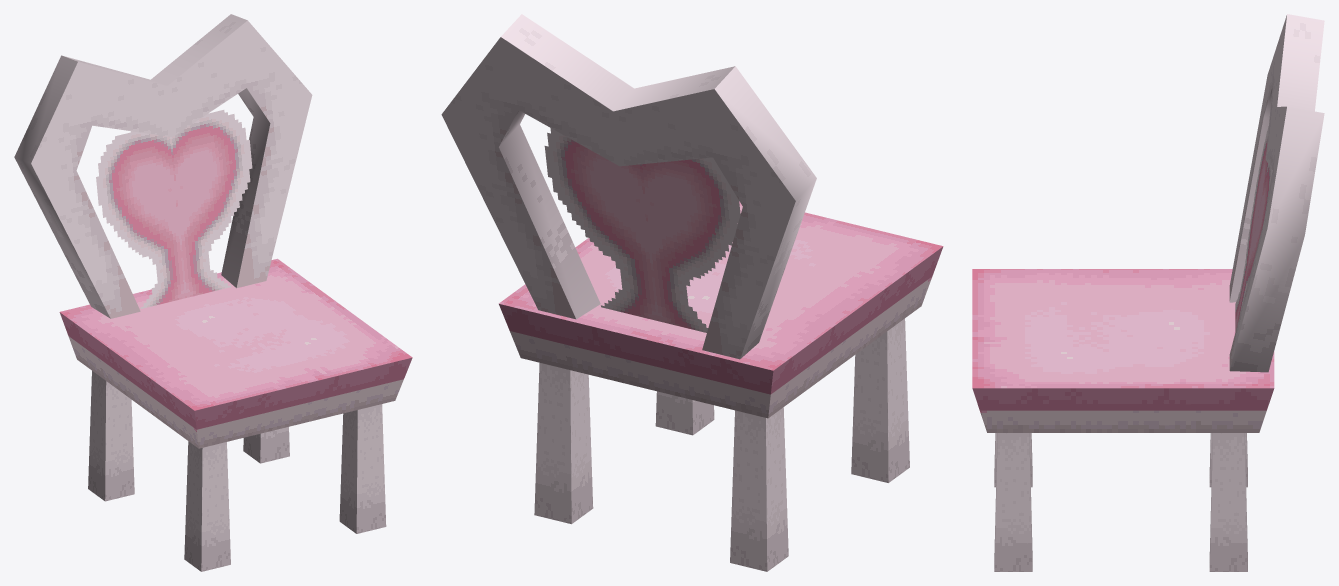
Rendered from Lovely Chair.obj.
The picture shows the model from 3 angles, left to right: view 1: azimuth 30°, elevation 25°; view 2: azimuth 150°, elevation 25°; view 3: azimuth 270°, elevation 25°; orthographic projection. The views are drawn at different scales.
Visible parts, largest first — view 1: polygon1, polygon2, polygon3, polygon0; view 2: polygon3, polygon1, polygon2, polygon0; view 3: polygon1, polygon3, polygon2, polygon0.
Boxes of the visible parts, x1=… form: polygon1: x1=59, y1=258, x2=412, y2=448; polygon2: x1=31, y1=20, x2=312, y2=318; polygon3: x1=14, y1=14, x2=386, y2=571; polygon0: x1=96, y1=110, x2=252, y2=308; polygon3: x1=499, y1=14, x2=909, y2=571; polygon1: x1=499, y1=201, x2=943, y2=418; polygon2: x1=441, y1=37, x2=795, y2=359; polygon0: x1=544, y1=128, x2=740, y2=332; polygon1: x1=972, y1=269, x2=1274, y2=432; polygon3: x1=994, y1=14, x2=1324, y2=571; polygon2: x1=1229, y1=15, x2=1286, y2=369; polygon0: x1=1235, y1=126, x2=1271, y2=331.
Size of the model in its own units: 1.7 by 2.39 by 1.65.
4 materials, 4 textured.
